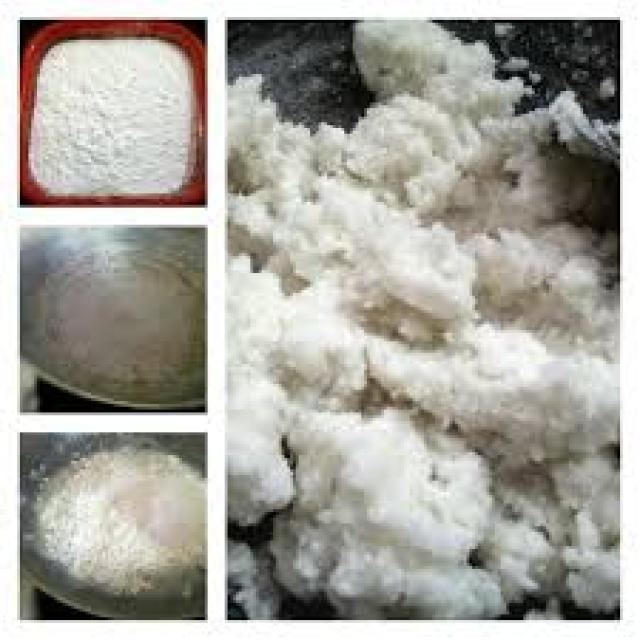UPMA: (222, 23, 614, 600)
